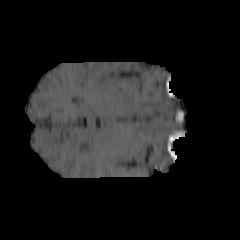glioma: (78, 77, 137, 127)
